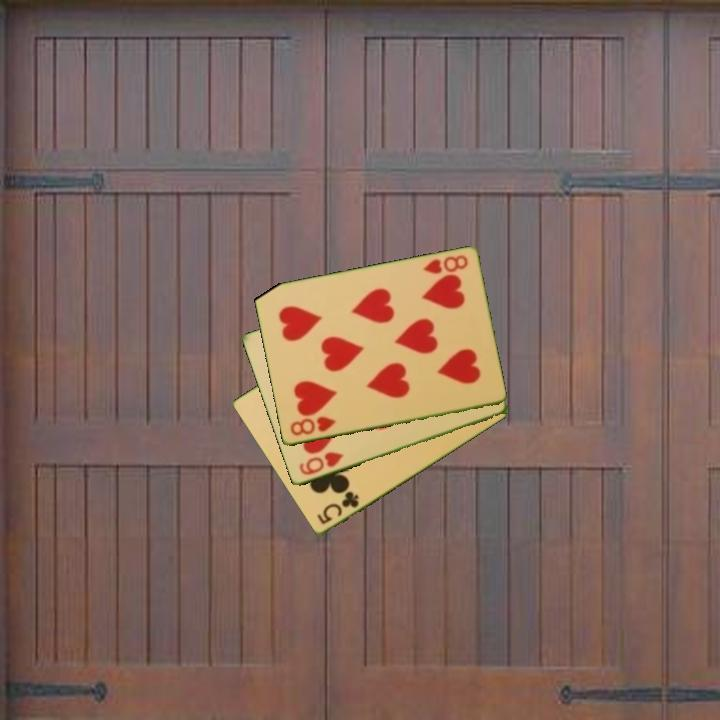5c: (313, 488, 362, 528)
6h: (295, 449, 346, 478)
8h: (286, 413, 339, 439), (419, 252, 471, 277)
